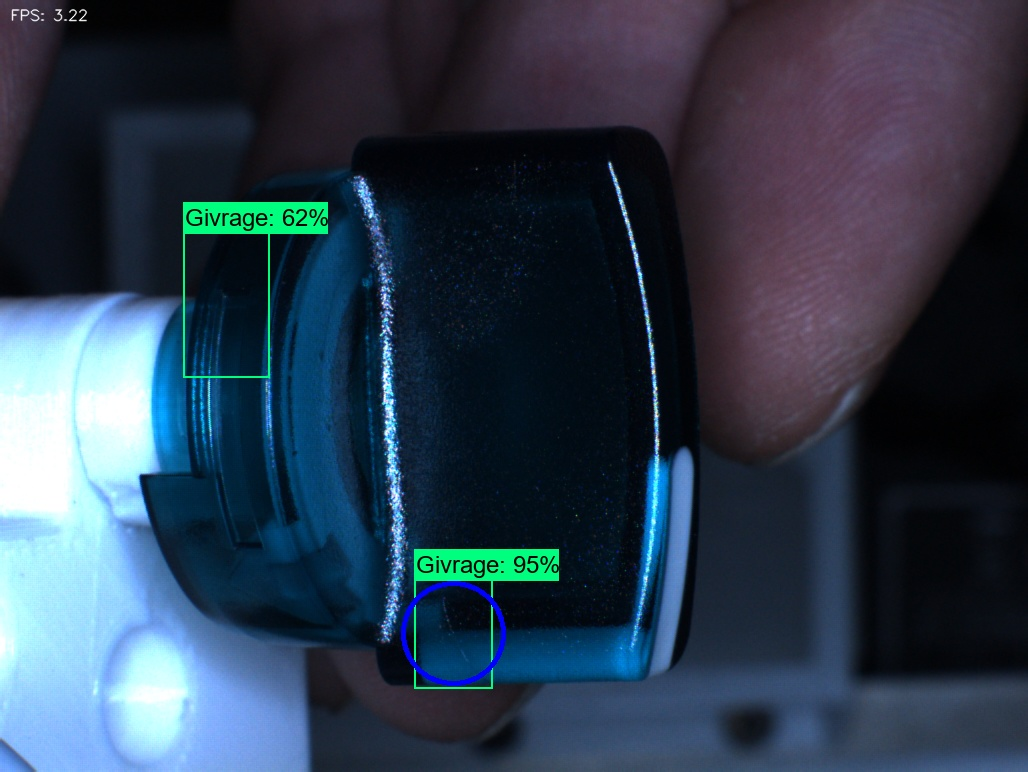PointNoir: (296, 323, 361, 397)
